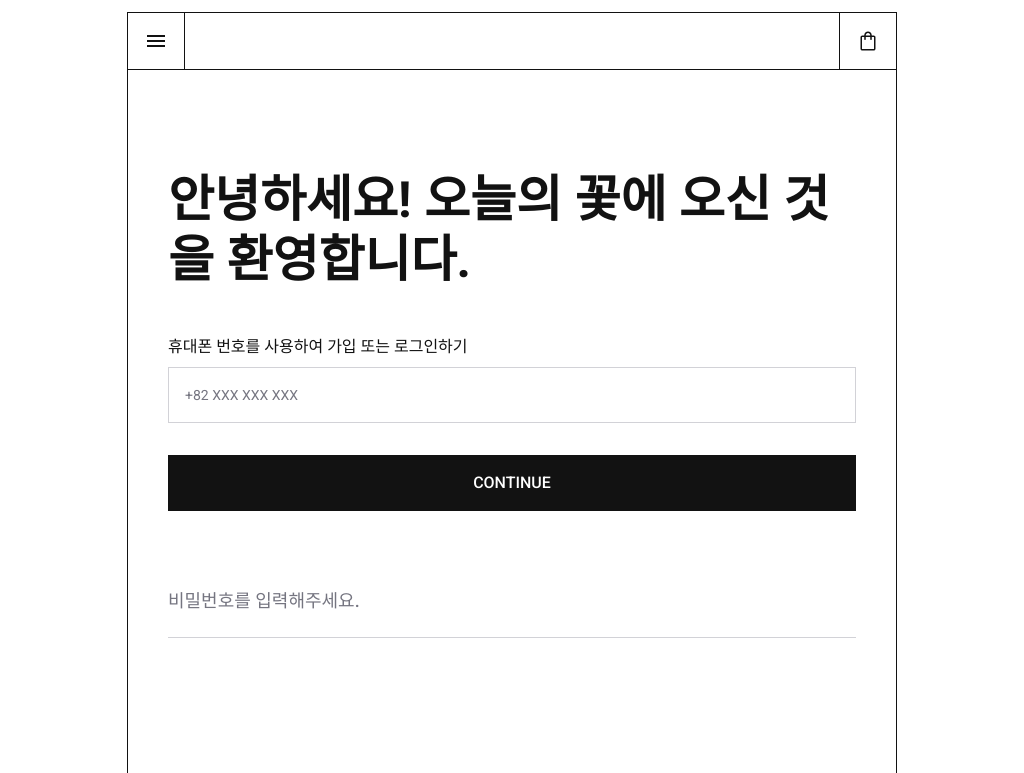
Test: 로그인 테스트 › 비밀번호가 틀렸을 경우 에러 메시지가 나타난다.
The image size is (1024, 773).
In the field with test id "phoneInput": point(512, 395) top-left (168, 367), bottom-right (856, 423), type "01087971558"
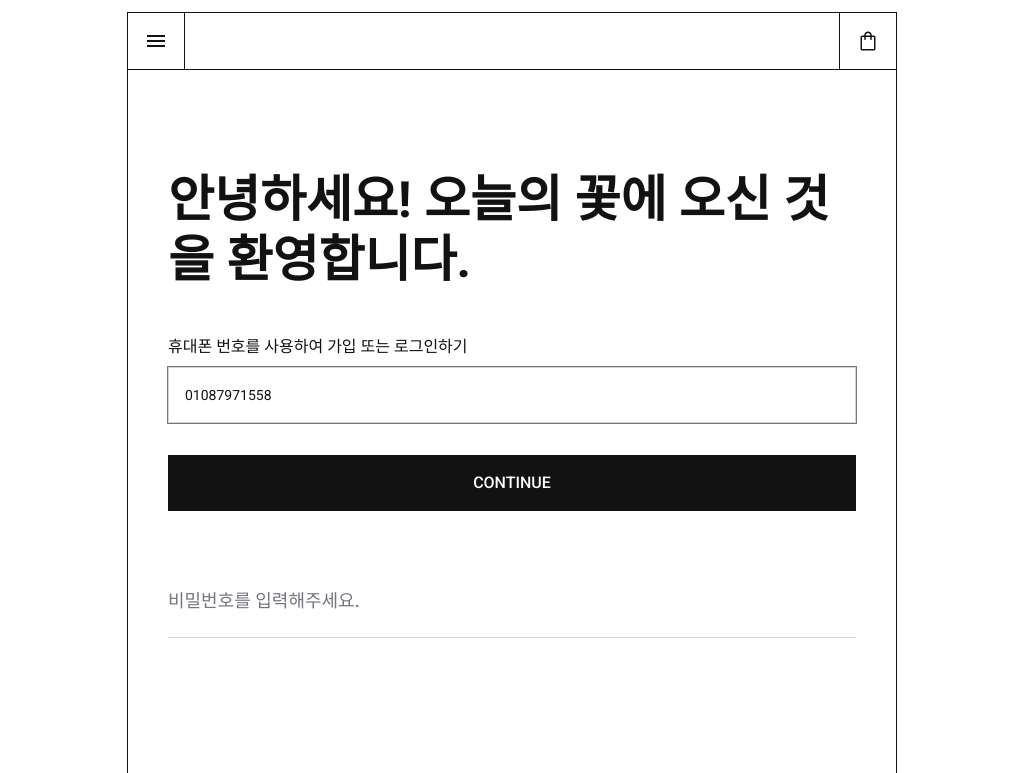
Click the button with test id "phoneBtn": point(512, 483) top-left (168, 455), bottom-right (856, 511)
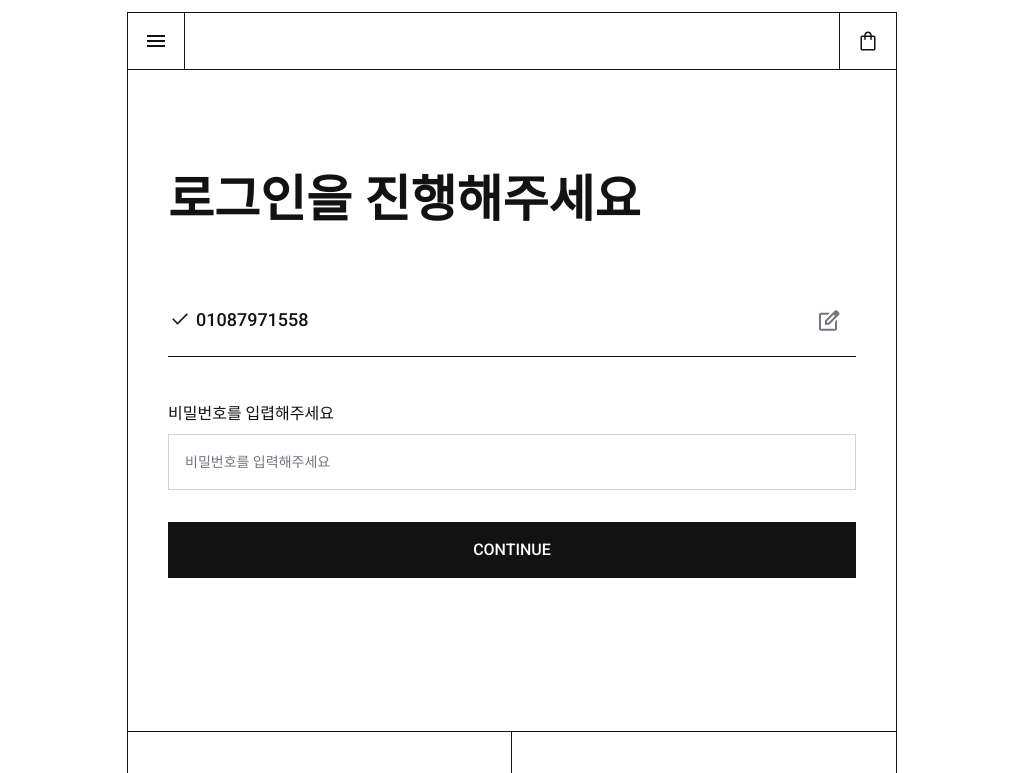
In the password field with test id "passwordInput": point(512, 462) top-left (168, 434), bottom-right (856, 490), type "1"
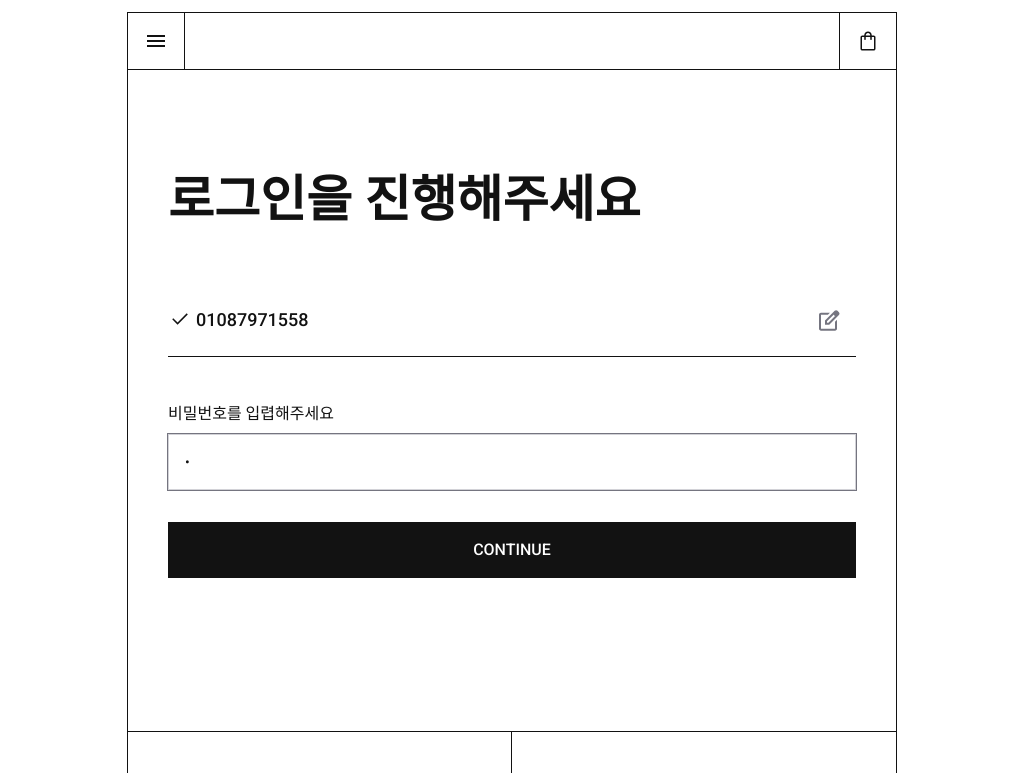
Click the button with test id "passwordBtn": point(512, 550) top-left (168, 522), bottom-right (856, 578)
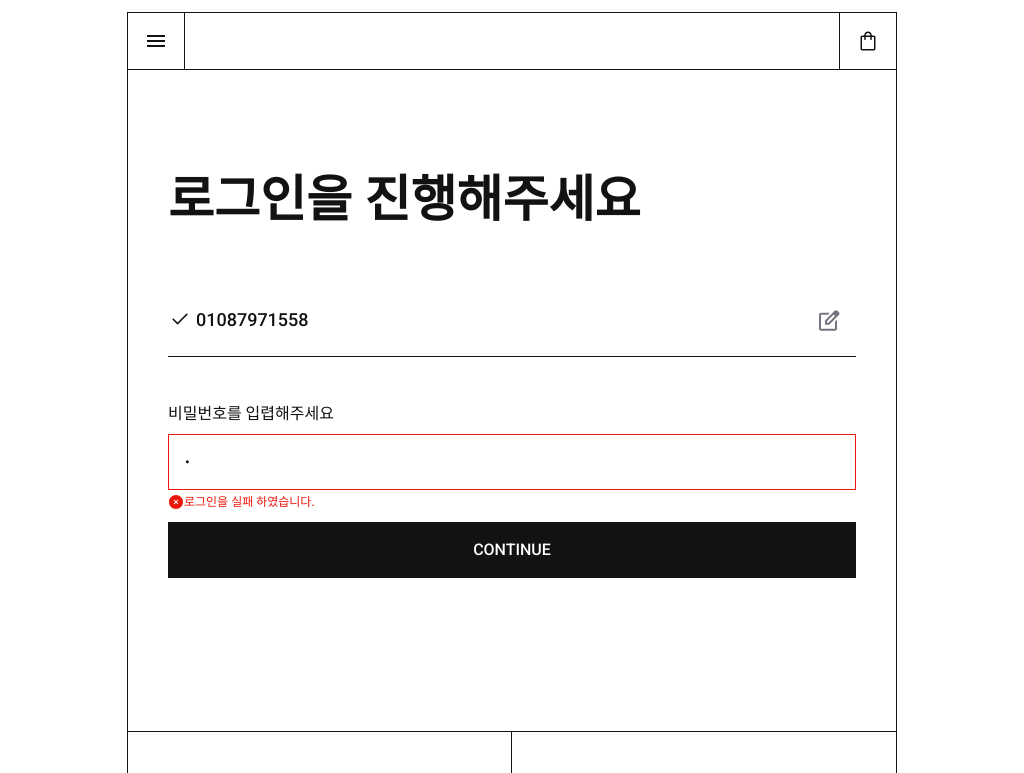
Expected: the text with test id "passwordHelp" reads "로그인을 실패 하였습니다.", top-left (184, 495), bottom-right (315, 509)
